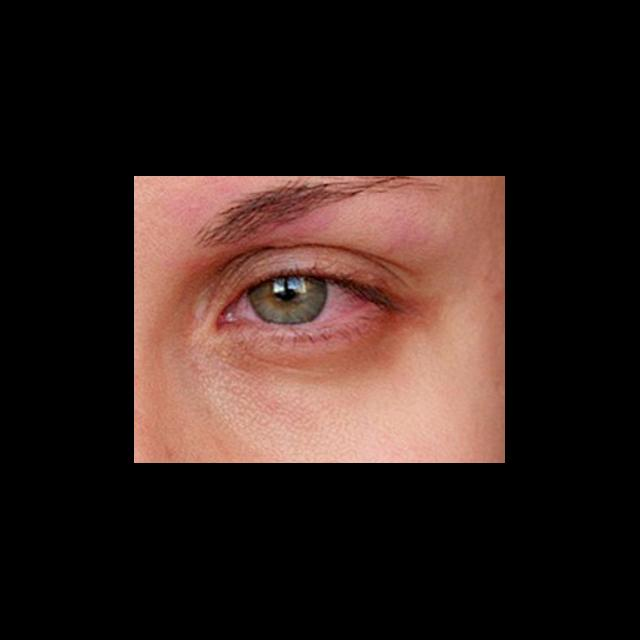eye: (240, 276, 366, 326)
iris: (248, 278, 328, 324)
